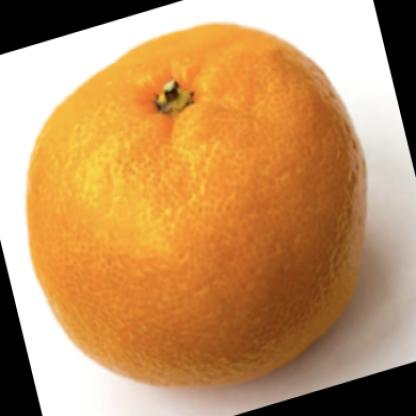fresh: (28, 23, 365, 385)
